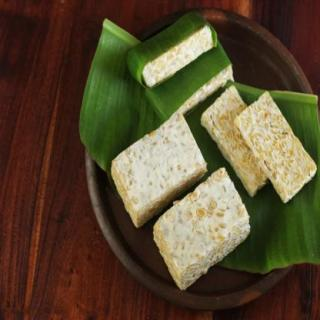Tempe: (200, 84, 318, 203)
